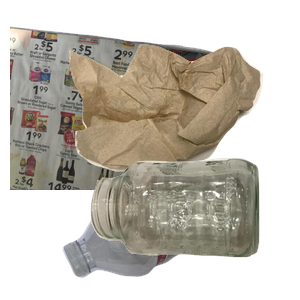glass: (88, 156, 300, 300)
paper: (10, 21, 222, 201)
plastic: (60, 190, 300, 280)
trash: (67, 42, 300, 206)
